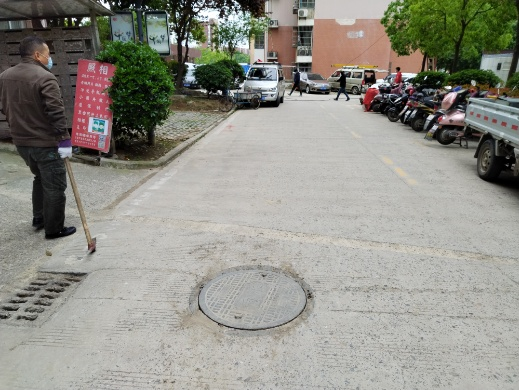good: (190, 265, 314, 335)
